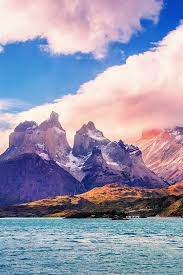mountain: (2, 116, 180, 217)
sea: (2, 219, 183, 274)
sky: (1, 2, 182, 125)
